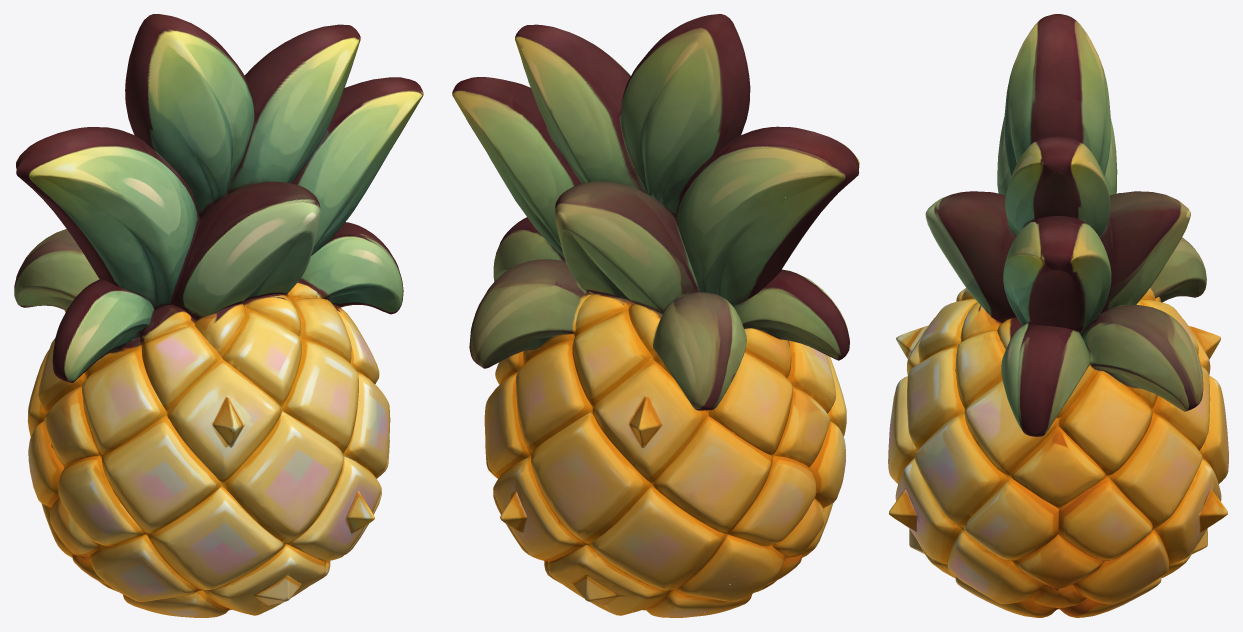
Rendered from pineapple-TyOg6mi1.glb.
3 views of the same model, side by side, from view 1: azimuth 30°, elevation 25°; view 2: azimuth 150°, elevation 25°; view 3: azimuth 270°, elevation 25° (orthographic). The views are drawn at different scales.
Parts seen in each view (by area): view 1: pineapple; view 2: pineapple; view 3: pineapple.
Part boxes in pixels (<box>): pineapple: <box>14,14,423,617</box>; pineapple: <box>452,14,859,617</box>; pineapple: <box>888,14,1228,617</box>.
Bounding box in the file's own units: 0.6924 × 0.9788 × 0.5379.
Materials: 2 (2 with a texture image).
